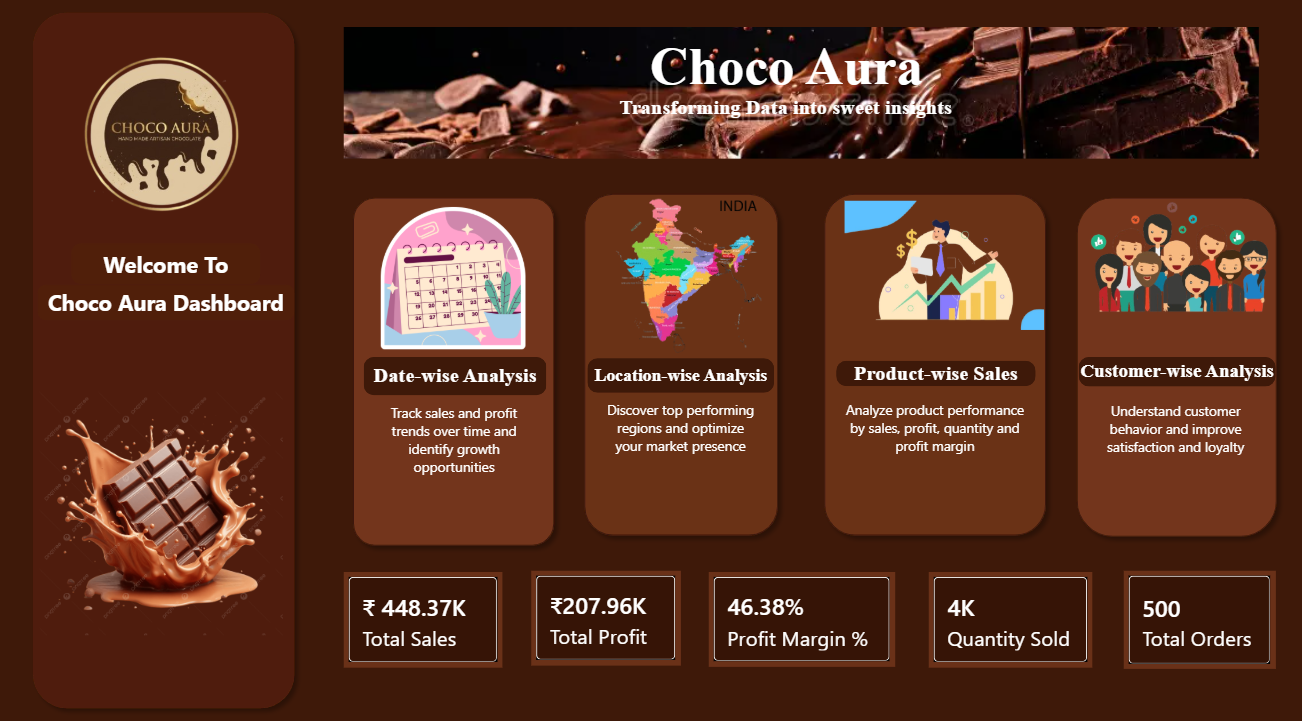

What the dashboard file says about the page in this screenshot:
{"tool":"powerbi","page":{"name":"Home ","canvas":[1280,720],"ordinal":0},"visuals":[{"type":"image","box":[336.2,33.8,895,128.8],"z":0},{"type":"shape","box":[23.8,11.2,273.8,698.8],"z":1000},{"type":"image","box":[0,0,316.2,278.8],"z":2000},{"type":"shape","box":[70,246.2,185,40],"z":3000},{"type":"shape","box":[506.2,33.8,526.2,77.5],"z":4000},{"type":"shape","box":[336.2,192.5,215,358.8],"z":5000},{"type":"image","box":[325,208.8,236.2,141.2],"z":6000},{"type":"shape","box":[356.2,357.5,178.8,37.5],"z":7000},{"type":"shape","box":[797.5,188.8,235,352.5],"z":8000},{"type":"image","box":[825,203.8,196.2,126.2],"z":9000},{"type":"shape","box":[817.5,361.2,195,25],"z":10000},{"type":"shape","box":[562.5,188.8,207.5,352.5],"z":11000},{"type":"image","box":[562.5,200,222.5,156.2],"z":12000},{"type":"shape","box":[575,358.8,182.5,33.8],"z":13000},{"type":"shape","box":[1043.8,192.5,213.8,350],"z":14000},{"type":"shape","box":[1055,357.5,192.5,28.8],"z":15000},{"type":"image","box":[1050,176.2,207.5,166.2],"z":16000},{"type":"shape","box":[36.2,286.2,251.2,35],"z":17000},{"type":"image","box":[36.2,325,240,367.5],"z":18000},{"type":"shape","box":[535,88.8,466.2,46.2],"z":19000},{"type":"shape","box":[375,360,137.5,157.5],"z":20000},{"type":"shape","box":[590,347.5,152.5,157.5],"z":21000},{"type":"shape","box":[810,347.5,210,157.5],"z":22000},{"type":"shape","box":[1068.8,347.5,162.5,158.8],"z":23000},{"type":"cardVisual","fields":{"Data":["Sum(Sales_Data.Total_Sales)"]},"box":[336.2,567.5,155,93.8],"z":24000},{"type":"cardVisual","fields":{"Data":["Sales_Data.Total Profit"]},"box":[520,566.2,146.2,92.5],"z":25000},{"type":"cardVisual","fields":{"Data":["Sales_Data.Profit Margin %"]},"box":[693.8,567.5,182.5,92.5],"z":26000},{"type":"cardVisual","fields":{"Data":["Sales_Data.Total Quantity Sold"]},"box":[908.8,567.5,160,93.8],"z":27000},{"type":"cardVisual","fields":{"Data":["Sales_Data.Total Orders"]},"box":[1098.8,566.2,148.8,96.2],"z":28000}]}

Visuals, with their boxes in screenshot pixels (x1, y1, x2, y2), scaled from the page's 1280x720 canvas onto the 1302x721 screenshot:
image: [342, 34, 1252, 163]
shape: [24, 11, 303, 711]
image: [0, 0, 322, 279]
shape: [71, 247, 259, 287]
shape: [515, 34, 1050, 111]
shape: [342, 193, 561, 552]
image: [331, 209, 571, 350]
shape: [362, 358, 544, 396]
shape: [811, 189, 1050, 542]
image: [839, 204, 1039, 330]
shape: [832, 362, 1030, 387]
shape: [572, 189, 783, 542]
image: [572, 200, 798, 357]
shape: [585, 359, 771, 393]
shape: [1062, 193, 1279, 543]
shape: [1073, 358, 1269, 387]
image: [1068, 176, 1279, 343]
shape: [37, 287, 292, 322]
image: [37, 325, 281, 693]
shape: [544, 89, 1018, 135]
shape: [381, 360, 521, 518]
shape: [600, 348, 755, 506]
shape: [824, 348, 1038, 506]
shape: [1087, 348, 1252, 507]
cardVisual - Sum(Sales_Data.Total_Sales): [342, 568, 500, 662]
cardVisual - Sales_Data.Total Profit: [529, 567, 678, 660]
cardVisual - Sales_Data.Profit Margin %: [706, 568, 891, 661]
cardVisual - Sales_Data.Total Quantity Sold: [924, 568, 1087, 662]
cardVisual - Sales_Data.Total Orders: [1118, 567, 1269, 663]
